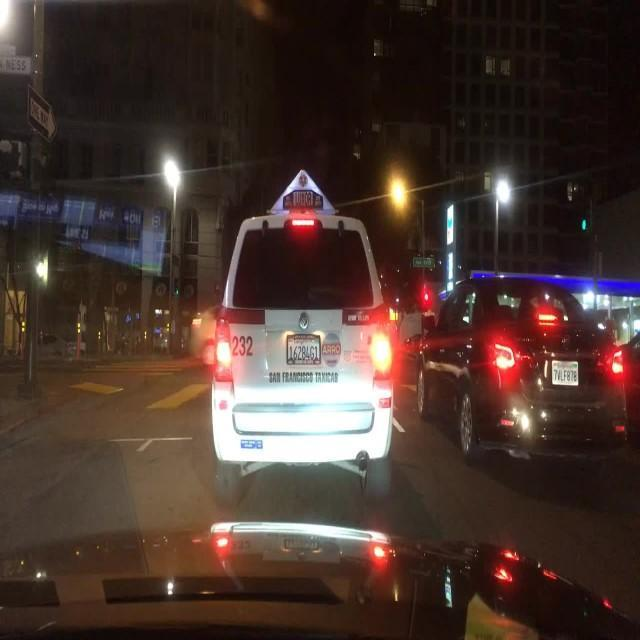normal: (210, 215, 399, 486), (386, 270, 623, 462)
